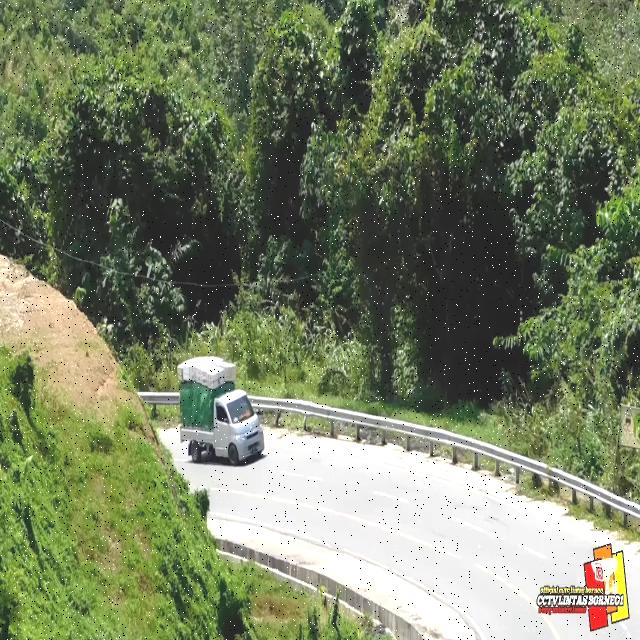Golongan IVB: (178, 386, 264, 466)
